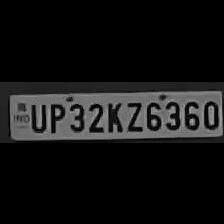0: (200, 98, 220, 130)
2: (84, 100, 104, 132)
3: (65, 100, 85, 132), (162, 97, 180, 130)
6: (143, 97, 161, 130), (181, 98, 199, 130)
K: (103, 99, 123, 133)
P: (46, 100, 66, 132)
U: (27, 100, 46, 132)
Z: (122, 98, 142, 132)
